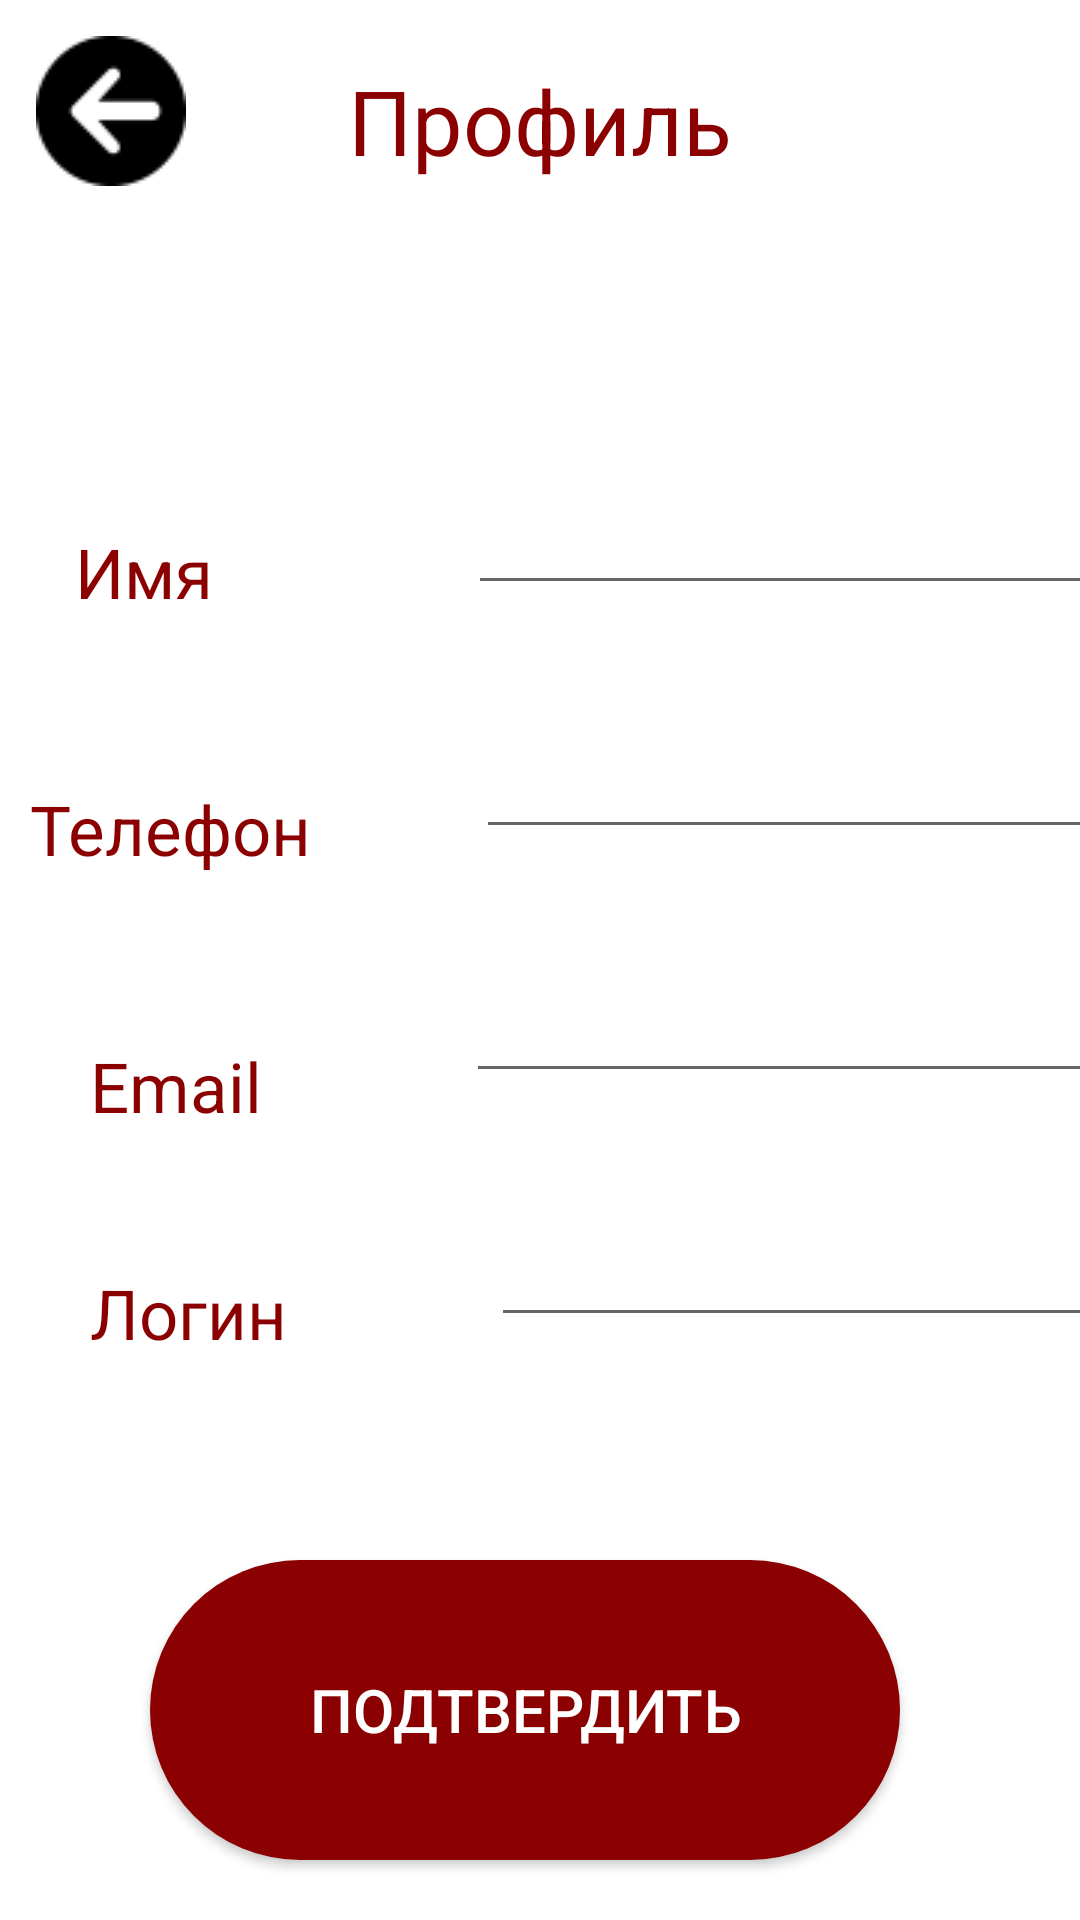

Where to tap for icons on this 1080x1920 app screen, as point (x, y):
back: point (111, 111)
